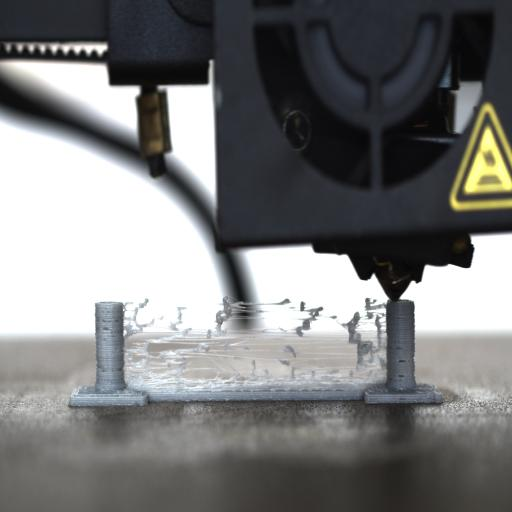stringing: (120, 296, 340, 388), (342, 310, 386, 384), (123, 298, 189, 341), (364, 298, 386, 320)
